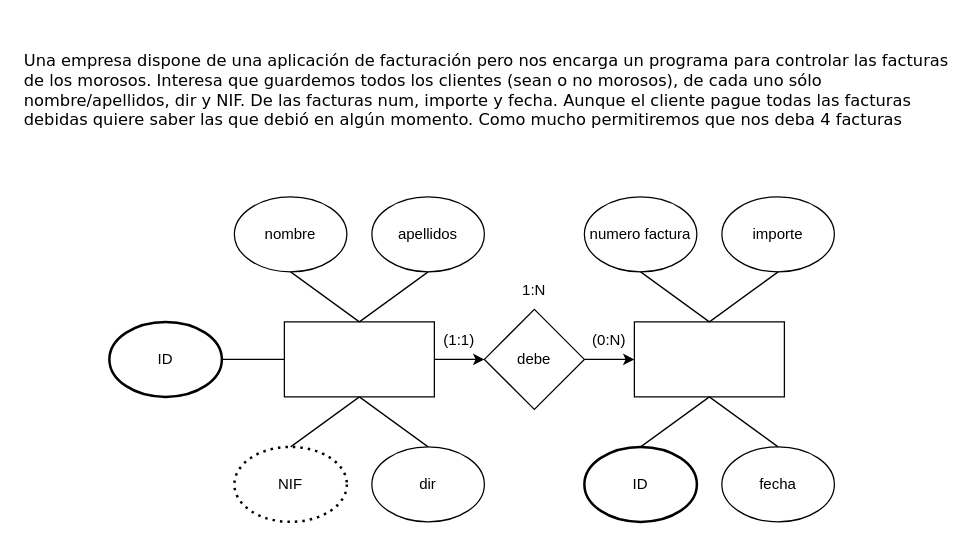
Some shapes in this 980 by 544 pixel diagram are drawn without their labels. Each missing label, with the centre of its shape:
"Cliente" goes at pixel 358 359.
"Factura" goes at pixel 708 359.
